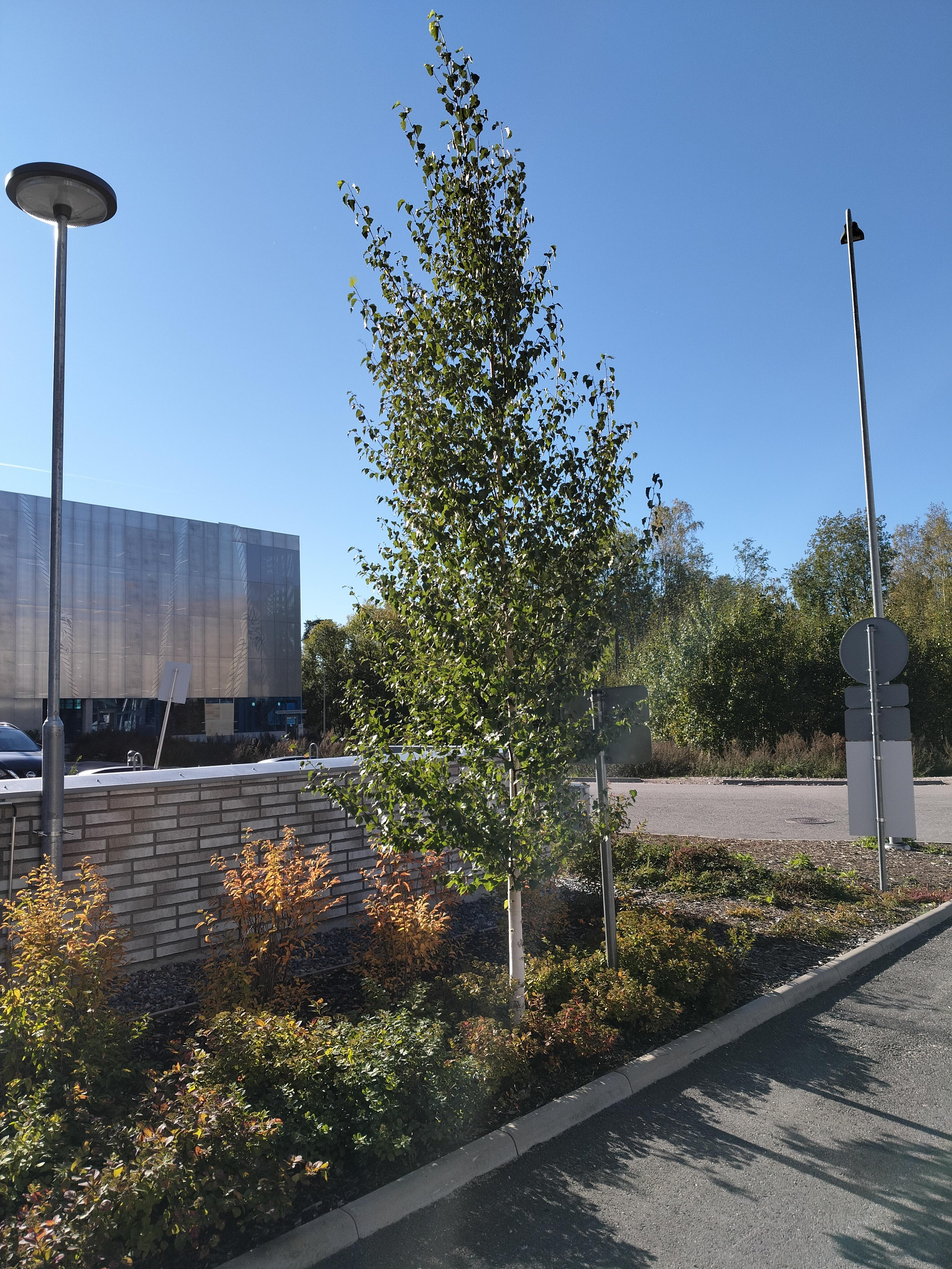Birch: (302, 7, 665, 1019)
